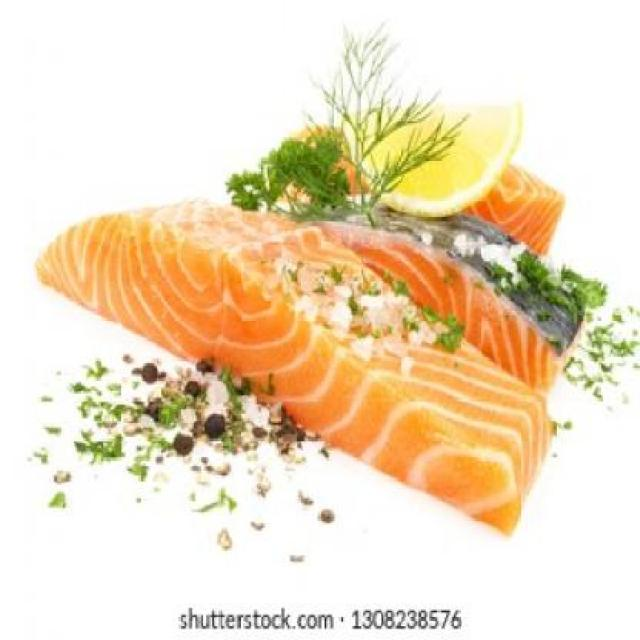salmon: (35, 169, 570, 542), (244, 171, 620, 408), (288, 103, 566, 265)
